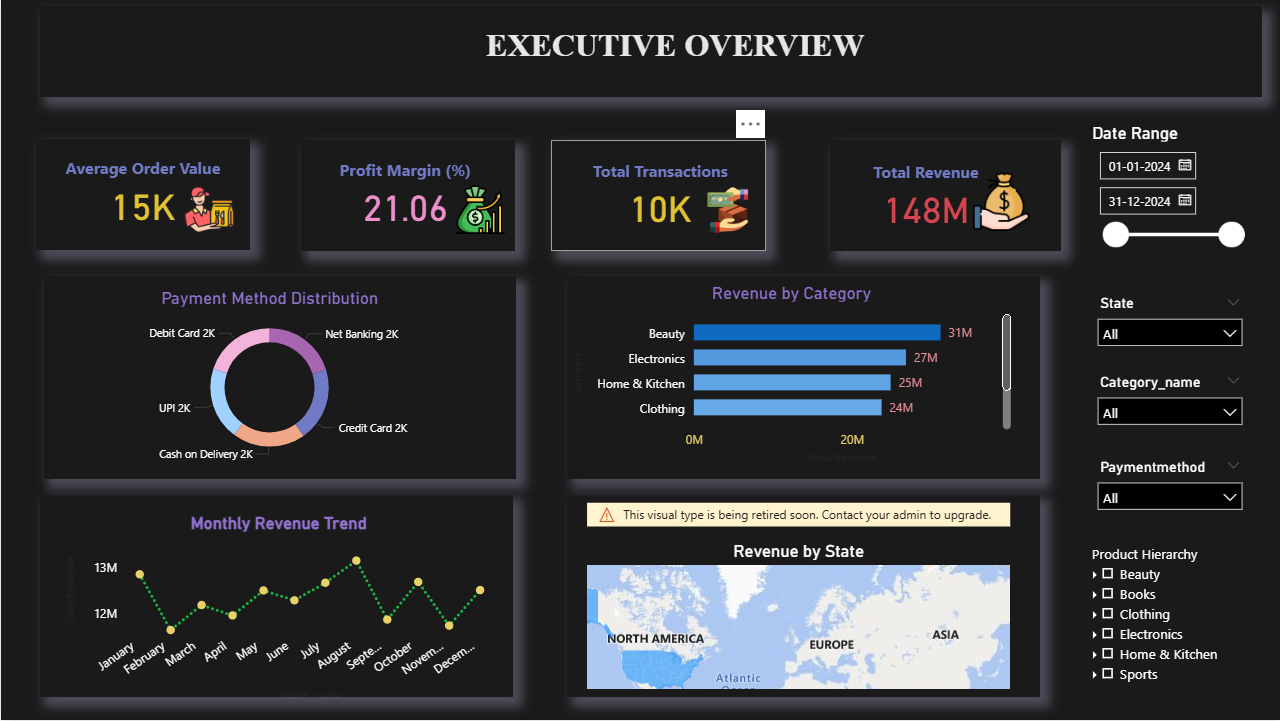

Layout of this report page (visuals, bound fields, positions):
{"tool":"powerbi","page":{"name":"Page 1","canvas":[1280,720],"ordinal":0},"visuals":[{"type":"shape","box":[35,138.7,214.7,111],"z":0},{"type":"shape","box":[565.8,494.6,472.9,202.7],"z":1000},{"type":"shape","box":[42.2,276.3,472.9,202.7],"z":2000},{"type":"cardVisual","fields":{"Data":["warehouse fact_sales.Total Revenue"]},"box":[818,139.9,216,111],"z":3000},{"type":"cardVisual","fields":{"Data":["warehouse fact_sales.Total Transactions"]},"box":[553.8,139.9,211.1,109.8],"z":4000},{"type":"cardVisual","fields":{"Data":["warehouse fact_sales.Average Order Value"]},"box":[42.2,137.5,199.1,109.8],"z":5000},{"type":"cardVisual","fields":{"Data":["warehouse fact_sales.Profit Margin %"]},"box":[293.2,138.7,222,109.8],"z":6000},{"type":"lineChart","title":"Monthly Revenue Trend","fields":{"Y":["warehouse fact_sales.Total Revenue"],"Category":["warehouse dim_date.month_name"]},"box":[59.1,512.7,437.9,194.2],"z":7000},{"type":"clusteredBarChart","title":"Revenue by Category","fields":{"Category":["warehouse dim_products.category"],"Y":["warehouse fact_sales.Total Revenue"]},"box":[565.8,282.3,448.8,185.8],"z":8000},{"type":"donutChart","title":"Payment Method Distribution","fields":{"Category":["warehouse dim_payment_method.payment_method_name"],"Y":["warehouse fact_sales.Total Transactions"]},"box":[78.4,287.1,380,181],"z":9000},{"type":"filledMap","title":"Revenue by State","fields":{"Category":["warehouse dim_customers.state"]},"box":[581.5,503.1,433.1,185.8],"z":10000},{"type":"textbox","box":[148.4,21.7,834.9,59.1],"z":11000},{"type":"slicer","title":"Payment Method","fields":{"Values":["warehouse dim_payment_method.payment_method_name"]},"box":[1085.8,453.6,165.3,100.1],"z":12000},{"type":"slicer","title":"State","fields":{"Values":["warehouse dim_customers.state"]},"box":[1085.8,289.5,165.3,88.1],"z":13000},{"type":"slicer","title":"Product Category","fields":{"Values":["warehouse dim_products.category"]},"box":[1085.8,369.2,165.3,160.5],"z":14000},{"type":"slicer","title":"Date Range","fields":{"Values":["warehouse dim_date.full_date"]},"box":[1085.8,123.1,165.3,139.9],"z":15000},{"type":"shape","box":[38.8,6.2,1222.5,90],"z":16000},{"type":"shape","box":[300.4,139.9,214.7,111],"z":17000},{"type":"shape","box":[550.1,139.9,214.7,111],"z":18000},{"type":"shape","box":[828.8,140,231.2,111.2],"z":19000},{"type":"shape","box":[565.8,276.3,472.9,202.7],"z":20000},{"type":"shape","box":[38.6,494.6,472.9,202.7],"z":21000},{"type":"image","box":[174.9,178.6,66.4,61.5],"z":22000},{"type":"image","box":[446.4,178.6,65.1,61.5],"z":23000},{"type":"image","box":[688.9,179.8,76,60.3],"z":24000},{"type":"image","box":[965.7,164.3,68.6,75.7],"z":25000},{"type":"HierarchySlicer1458836712039","fields":{"Fields":["warehouse dim_products.category","warehouse dim_products.sub_category","warehouse dim_products.product_name"]},"box":[1086.4,539.6,165.9,157.3],"z":26000}]}

Visuals, with their boxes in screenshot pixels (x1, y1, x2, y2), scaled from the page's 1280x720 canvas onto the 1280x721 screenshot:
shape: 35/139/250/250
shape: 566/495/1039/698
shape: 42/277/515/480
cardVisual - warehouse fact_sales.Total Revenue: 818/140/1034/251
cardVisual - warehouse fact_sales.Total Transactions: 554/140/765/250
cardVisual - warehouse fact_sales.Average Order Value: 42/138/241/248
cardVisual - warehouse fact_sales.Profit Margin %: 293/139/515/249
"Monthly Revenue Trend" lineChart: 59/513/497/708
"Revenue by Category" clusteredBarChart: 566/283/1015/469
"Payment Method Distribution" donutChart: 78/287/458/469
"Revenue by State" filledMap: 582/504/1015/690
textbox: 148/22/983/81
"Payment Method" slicer: 1086/454/1251/554
"State" slicer: 1086/290/1251/378
"Product Category" slicer: 1086/370/1251/530
"Date Range" slicer: 1086/123/1251/263
shape: 39/6/1261/96
shape: 300/140/515/251
shape: 550/140/765/251
shape: 829/140/1060/252
shape: 566/277/1039/480
shape: 39/495/512/698
image: 175/179/241/240
image: 446/179/512/240
image: 689/180/765/240
image: 966/165/1034/240
HierarchySlicer1458836712039 - warehouse dim_products.category x warehouse dim_products.sub_category: 1086/540/1252/698
